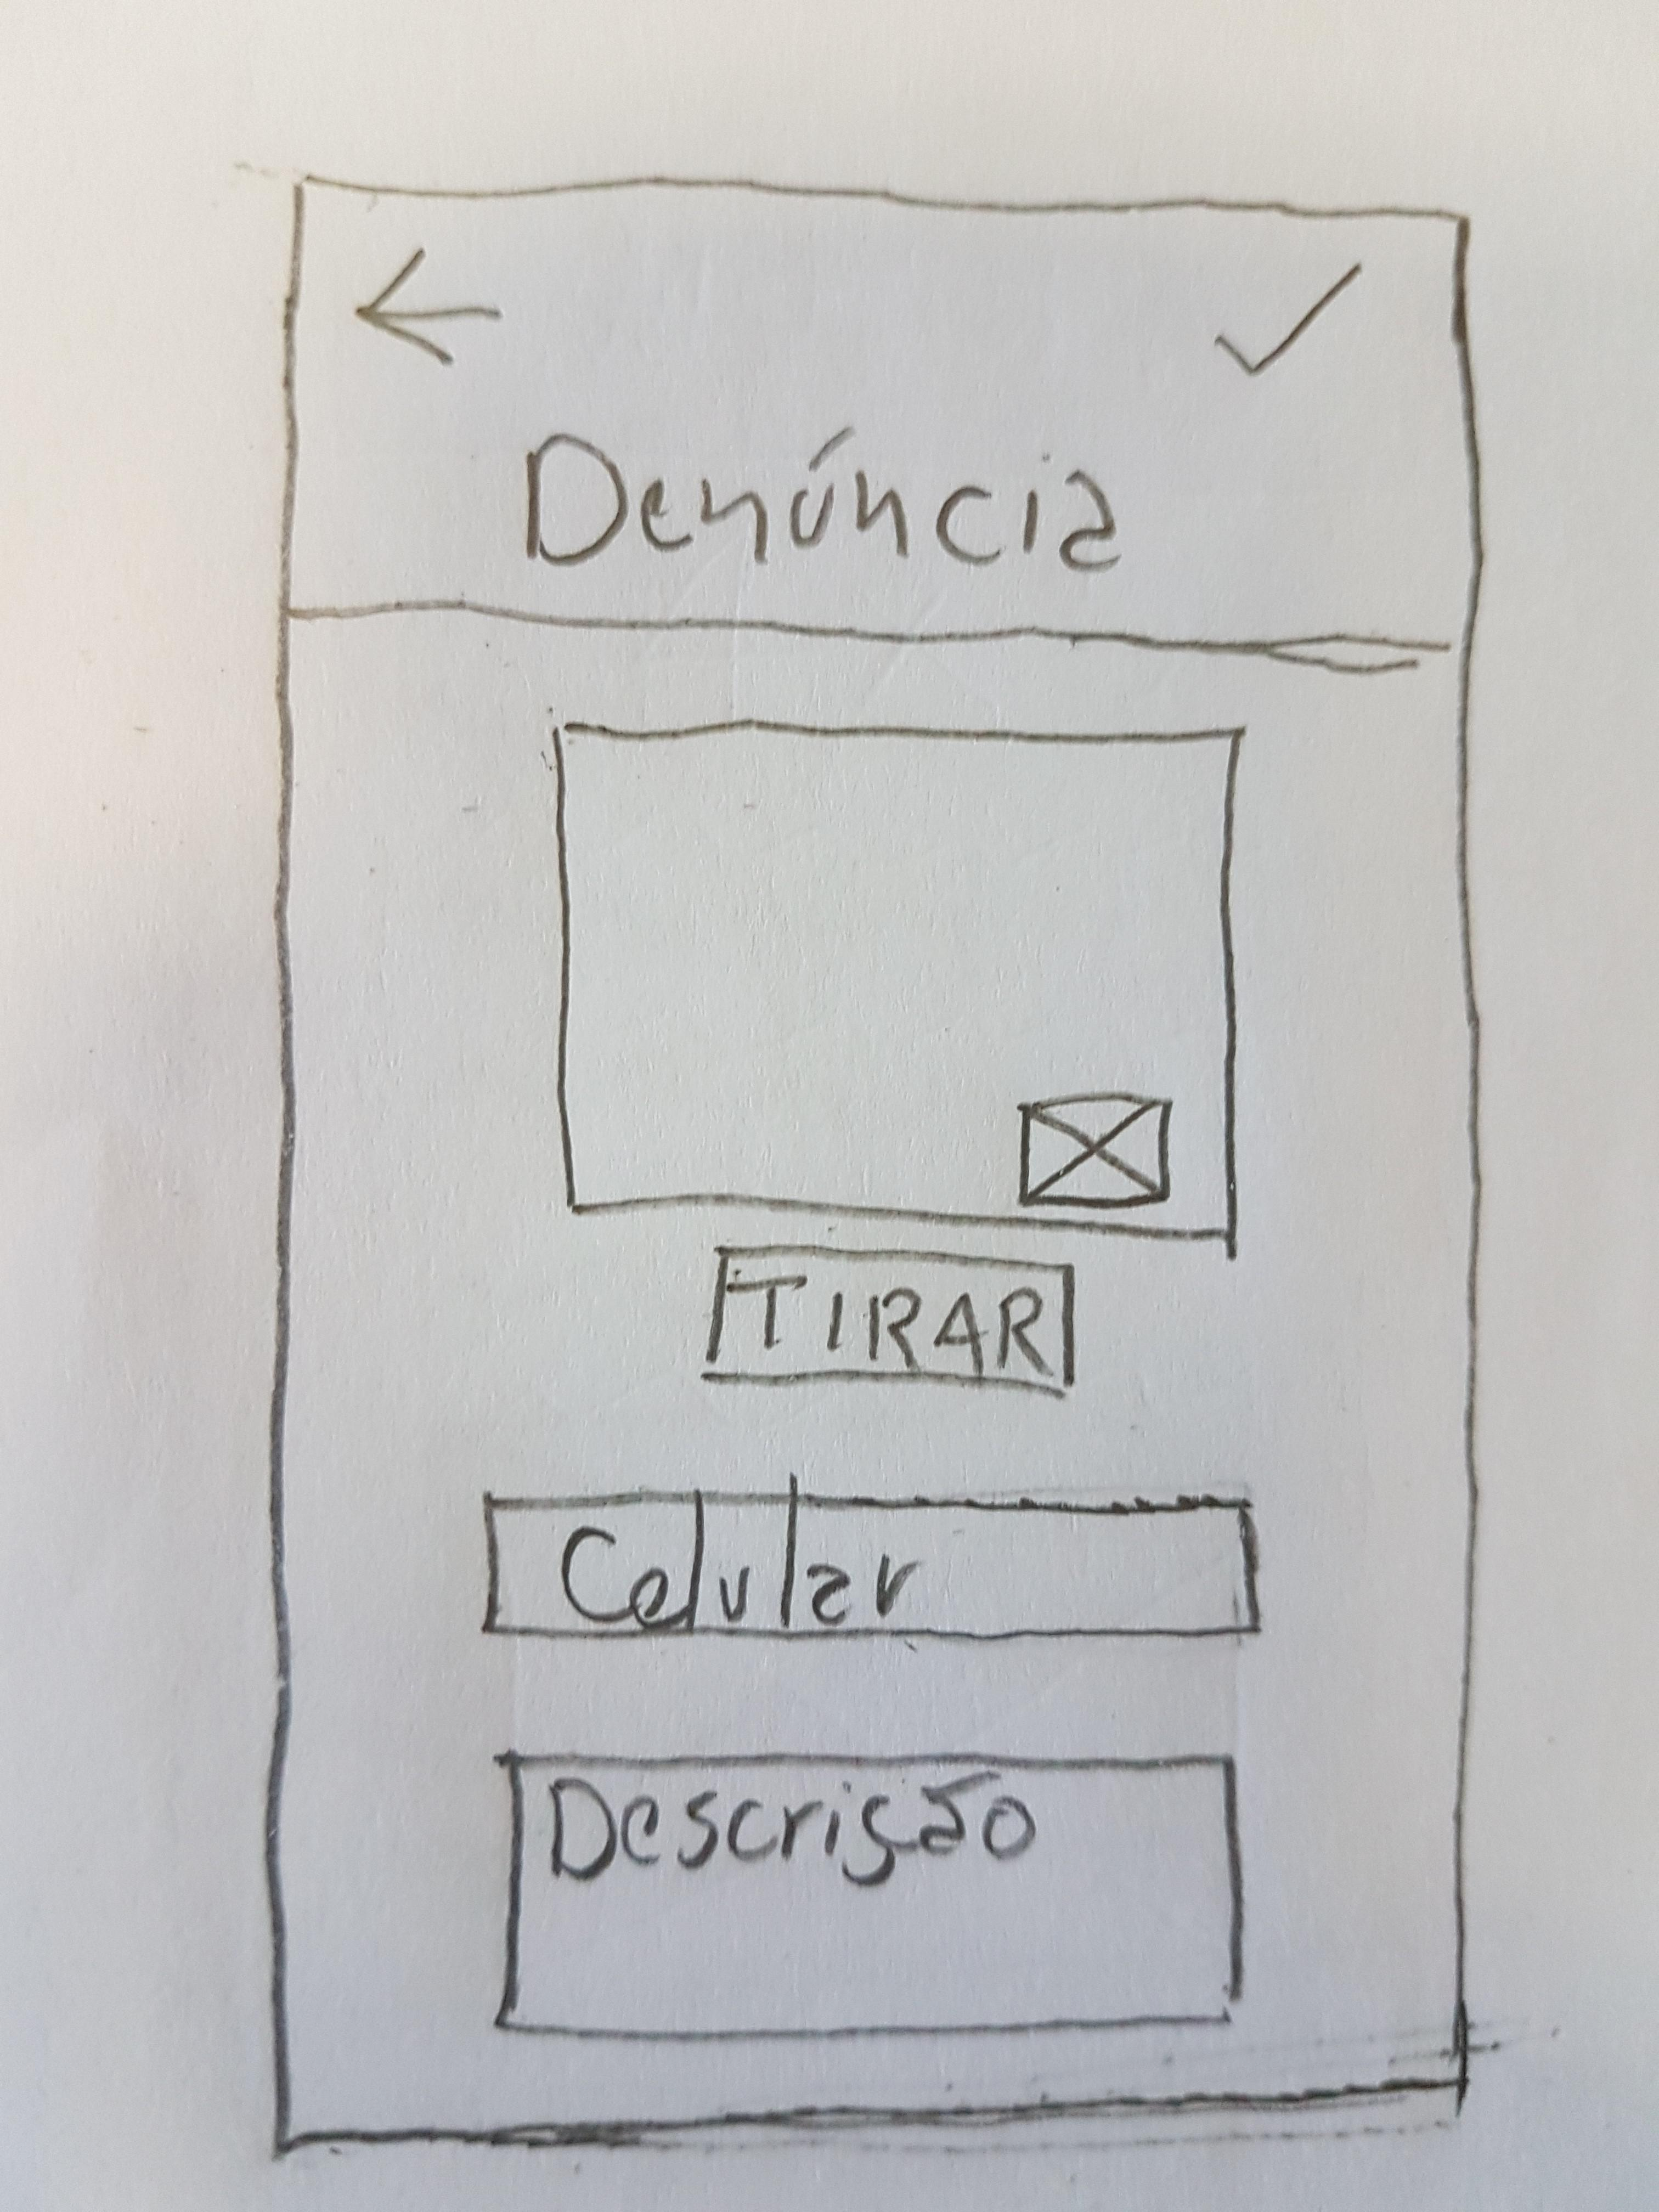Button: (697, 1251, 1080, 1386), (345, 242, 507, 368), (1209, 258, 1370, 381)
Image: (1014, 1092, 1175, 1204)
Label: (512, 432, 1133, 570)
Screen: (277, 169, 1488, 2153)
TextBox: (490, 1750, 1243, 2047), (477, 1489, 1267, 1639)
